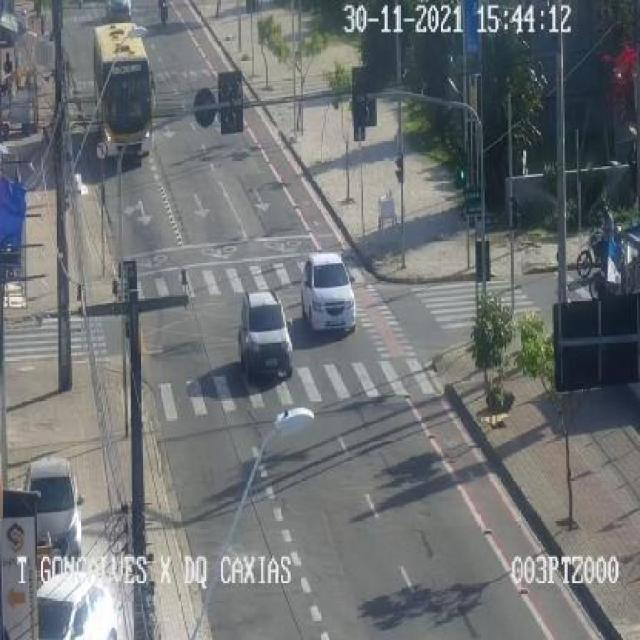Bus: (85, 5, 168, 174)
Car: (290, 249, 371, 342), (229, 281, 300, 379), (24, 448, 82, 556), (31, 572, 116, 638)
Cycle: (564, 229, 622, 295)
